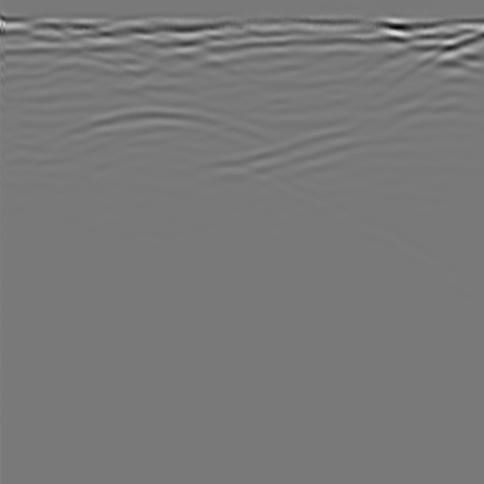hyperbola: (21, 96, 295, 197)
